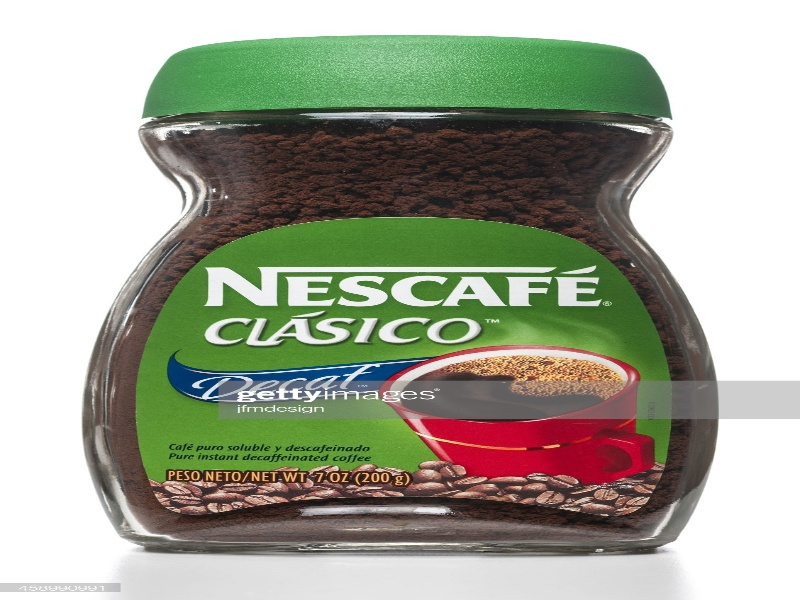nescafe-classic/gold-med: (76, 34, 719, 554)
